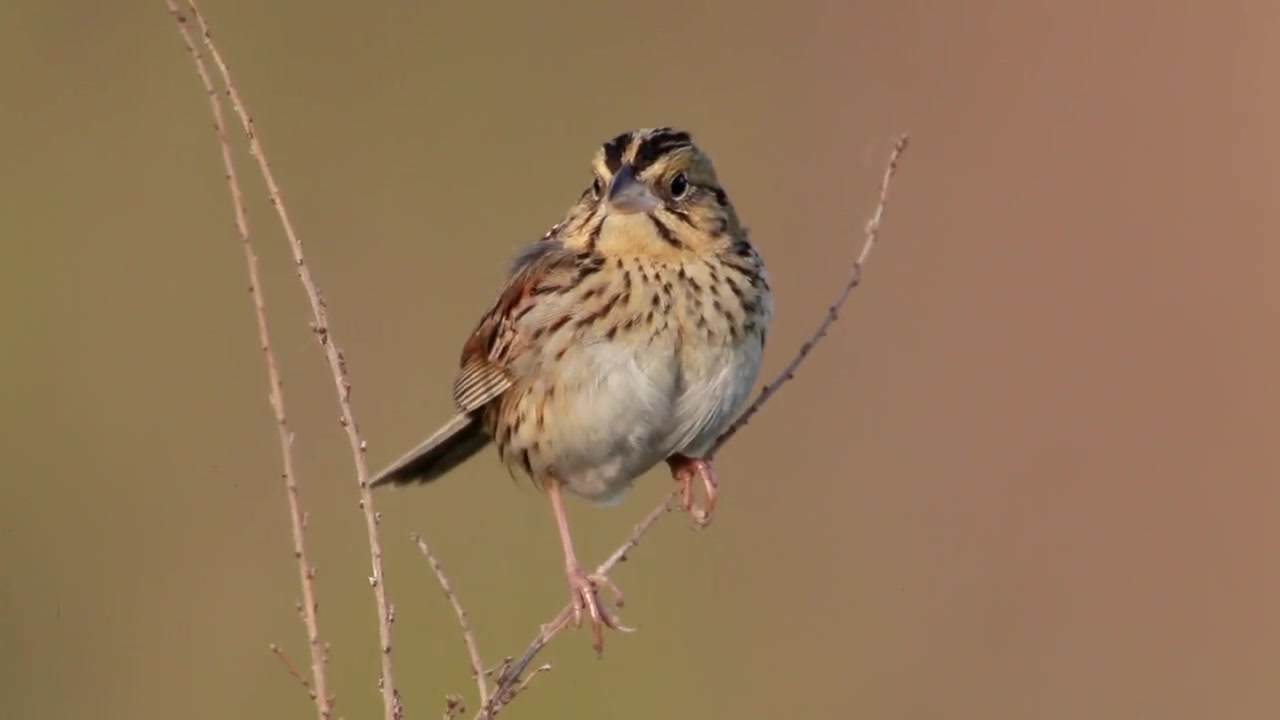bird: (366, 128, 773, 664)
